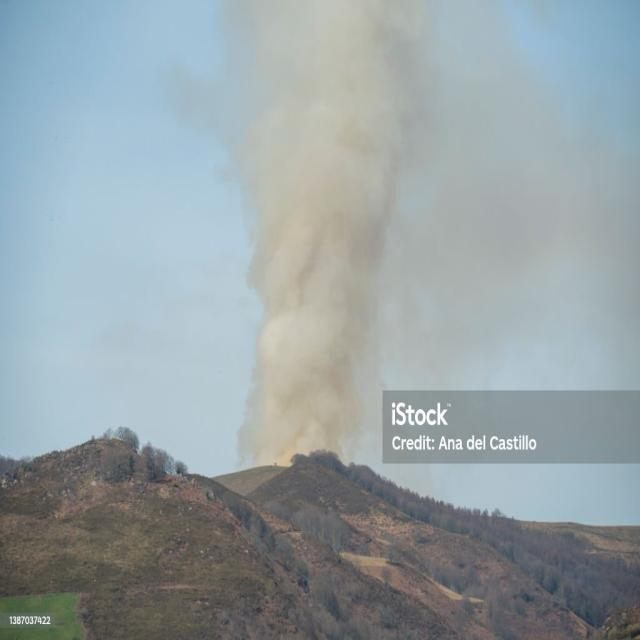Smoke: (212, 0, 376, 455)
